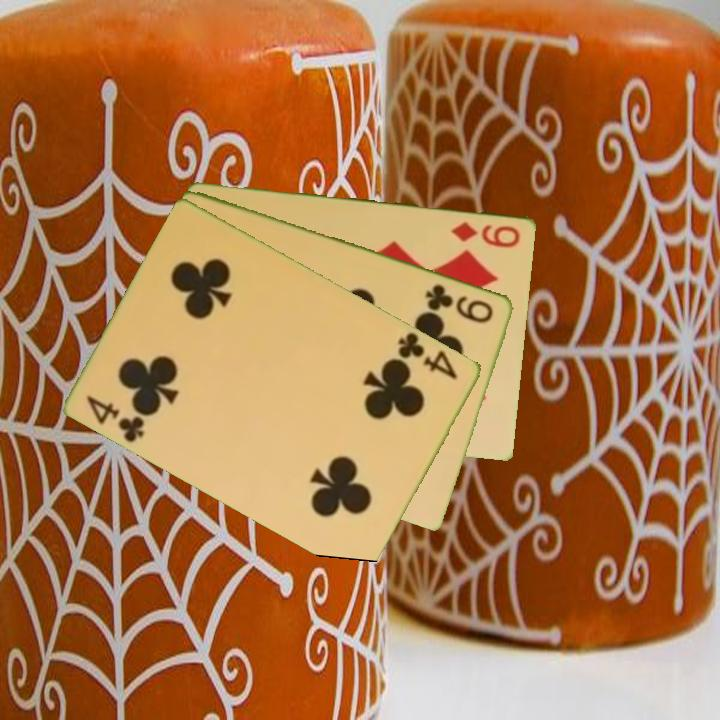4c: (394, 328, 461, 383), (83, 391, 148, 446)
9c: (422, 280, 497, 326)
9d: (448, 217, 524, 250)
